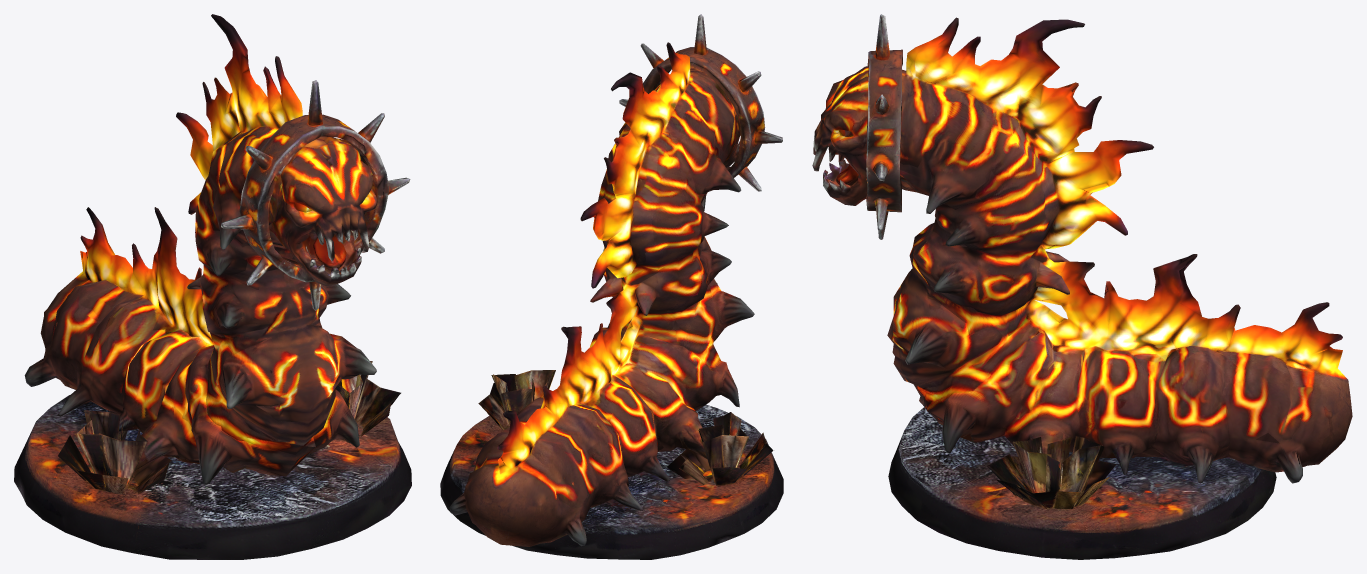
Rendered from BlazeWorm.fbx.
3 views of the same model, side by side, from view 1: azimuth 30°, elevation 25°; view 2: azimuth 150°, elevation 25°; view 3: azimuth 270°, elevation 25° (orthographic). The views are drawn at different scales.
Visible parts, largest first — view 1: mesh_node; view 2: mesh_node; view 3: mesh_node.
Part boxes in pixels (<box>): mesh_node: <box>14,14,411,559</box>; mesh_node: <box>440,14,783,559</box>; mesh_node: <box>812,14,1352,559</box>.
Bounding box in the file's own units: 91.11 × 120 × 126.
Materials: 1 (1 with a texture image).
